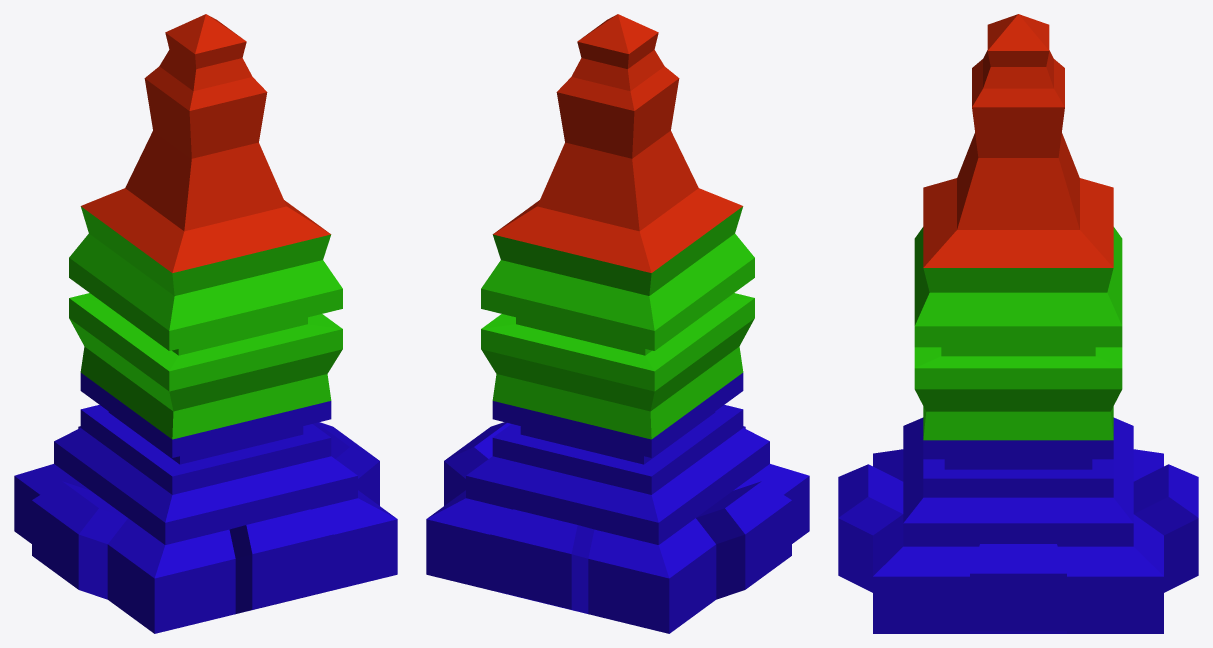
The model's file is BasicTower.fbx.
3 views of the same model, side by side, from view 1: azimuth 30°, elevation 25°; view 2: azimuth 150°, elevation 25°; view 3: azimuth 270°, elevation 25° (orthographic). The views are drawn at different scales.
Parts seen in each view (by area): view 1: Bottom, Middle, Top; view 2: Bottom, Middle, Top; view 3: Bottom, Middle, Top.
Part boxes in pixels (left/top/right/bottom): Bottom: left=14, top=373, right=397, bottom=633; Middle: left=69, top=206, right=342, bottom=439; Top: left=81, top=14, right=330, bottom=272; Bottom: left=426, top=373, right=809, bottom=633; Middle: left=481, top=206, right=754, bottom=439; Top: left=493, top=14, right=742, bottom=272; Bottom: left=838, top=417, right=1198, bottom=633; Middle: left=914, top=227, right=1122, bottom=440; Top: left=923, top=14, right=1113, bottom=267.
Size of the model in its own units: 379 by 648 by 379.
